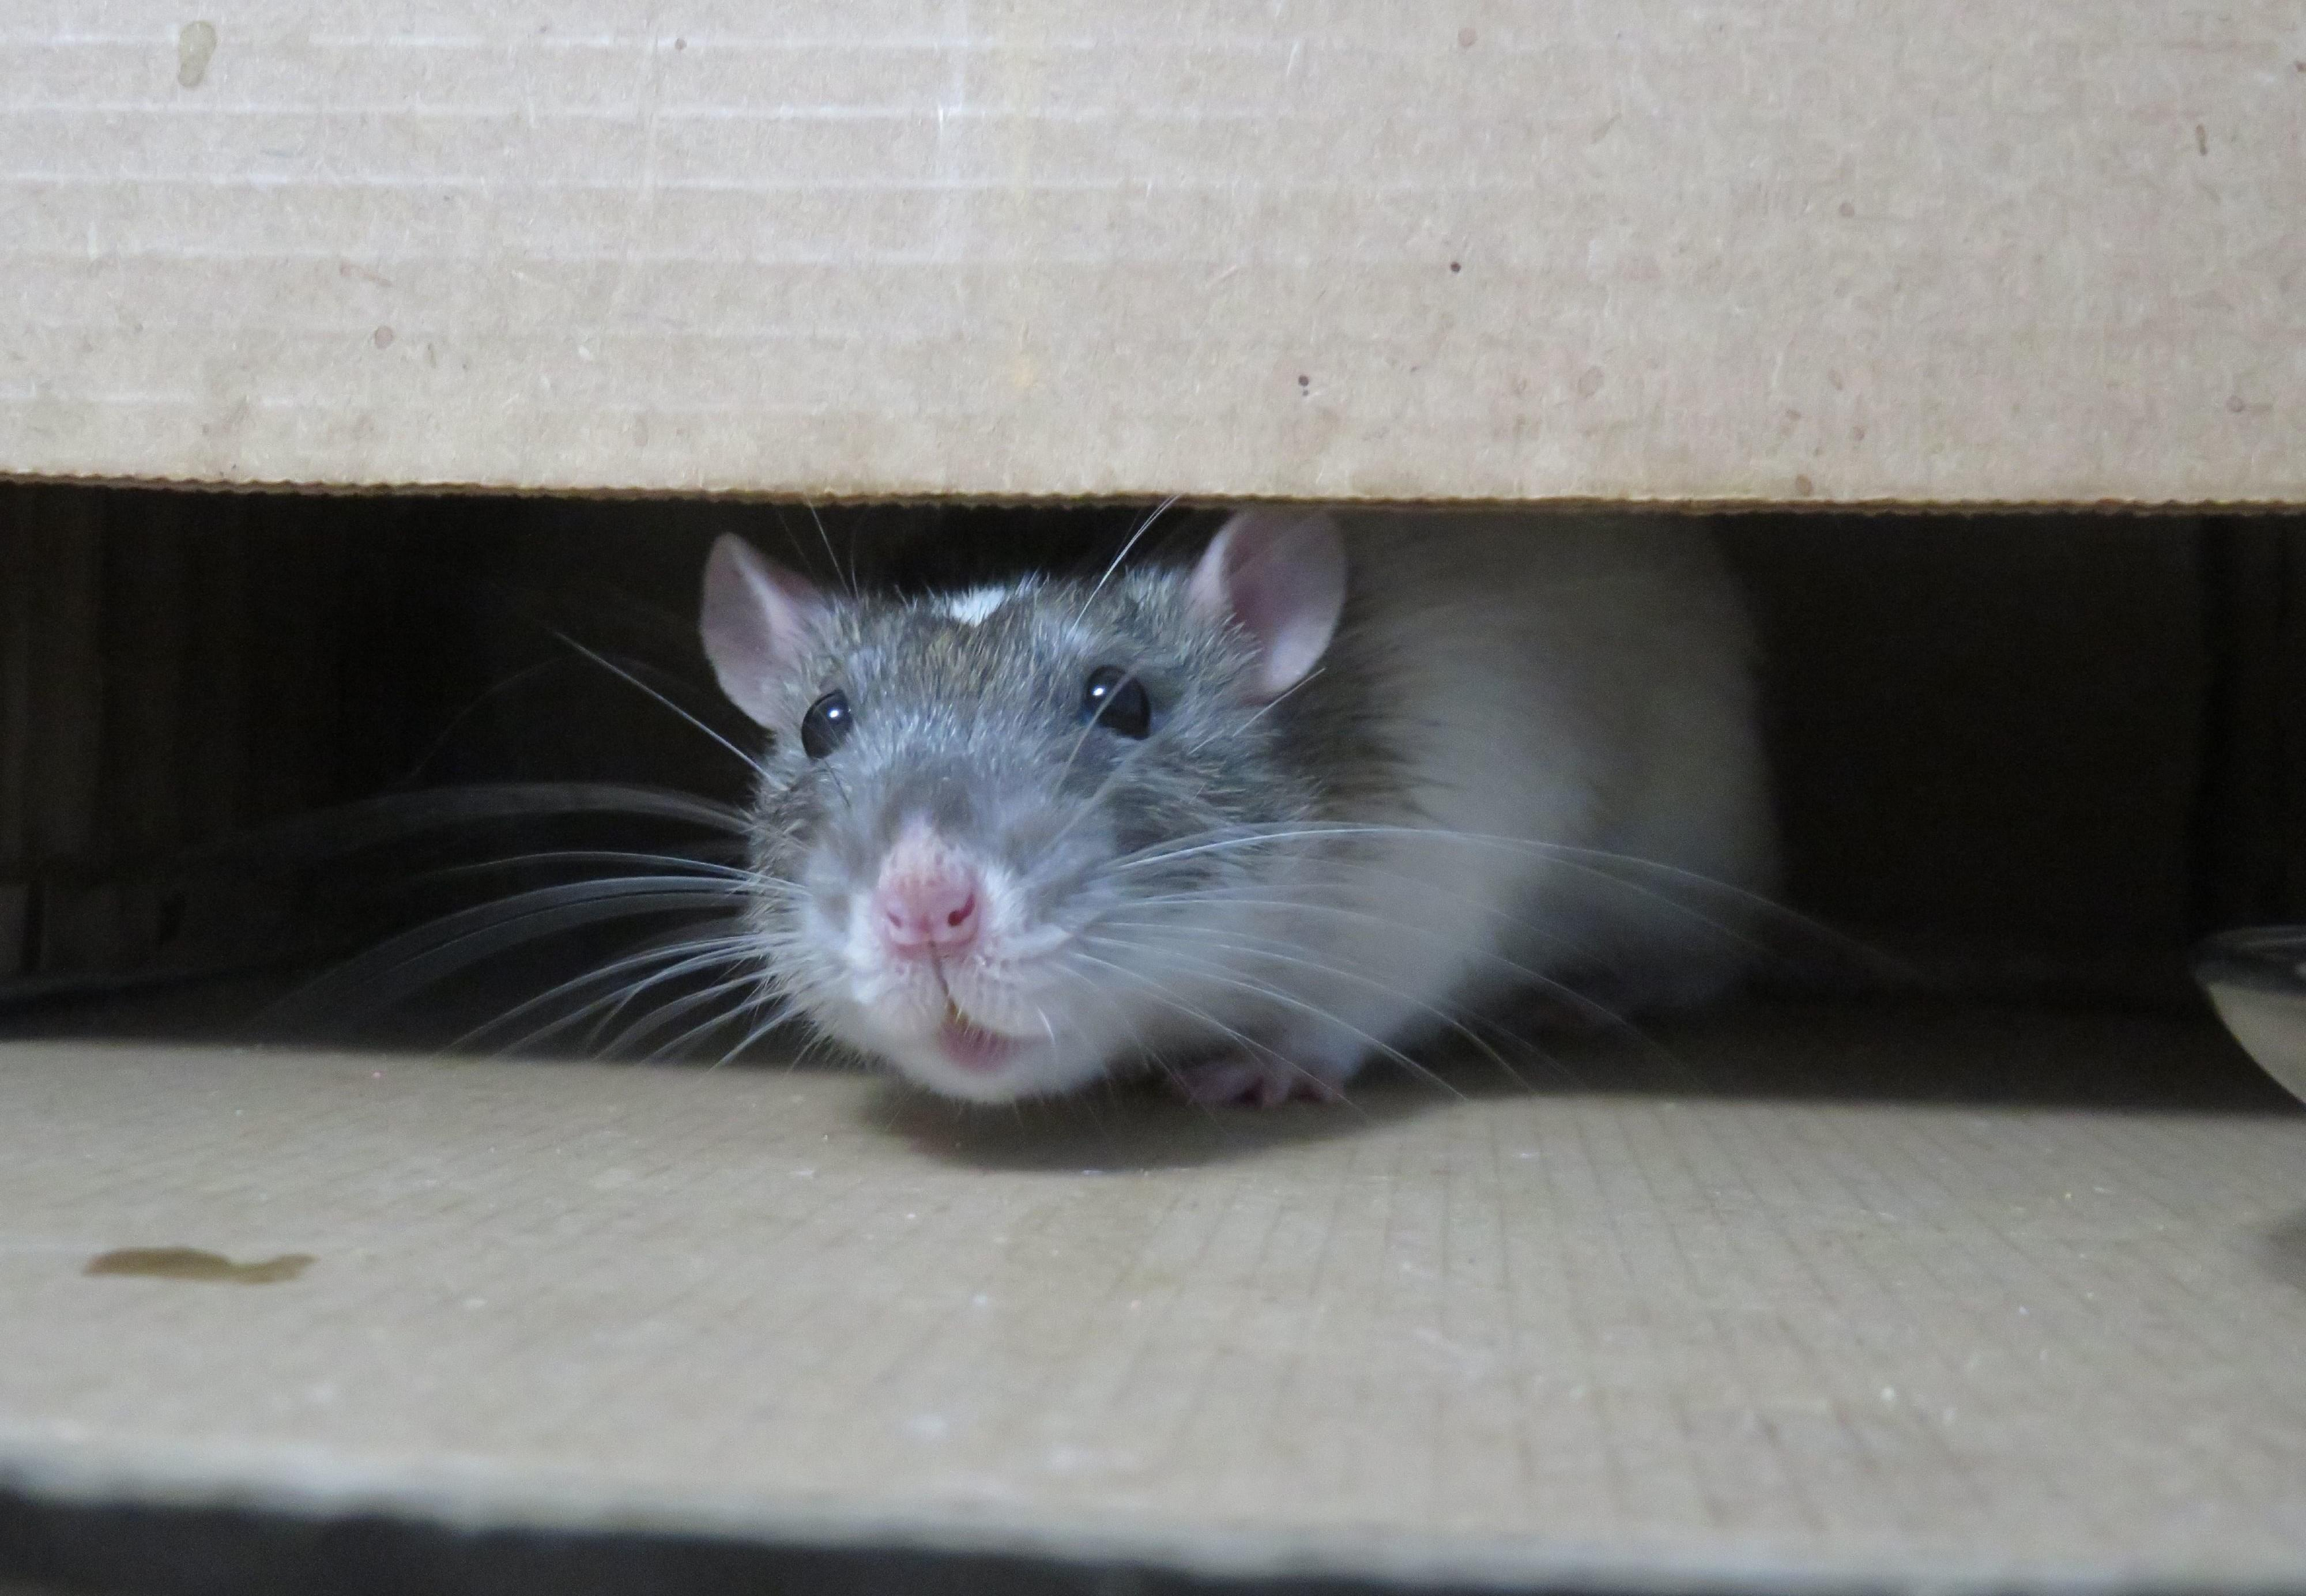Rat: (666, 520, 1766, 1193)
